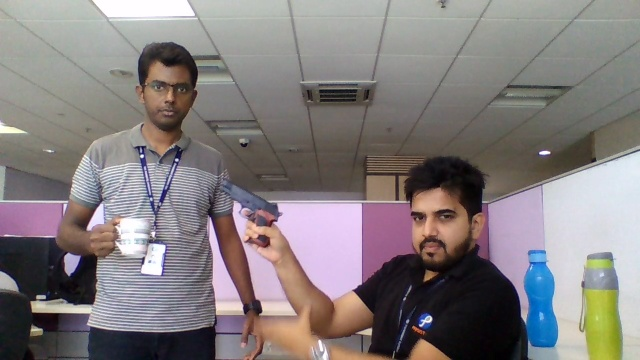gun: (219, 177, 283, 221)
